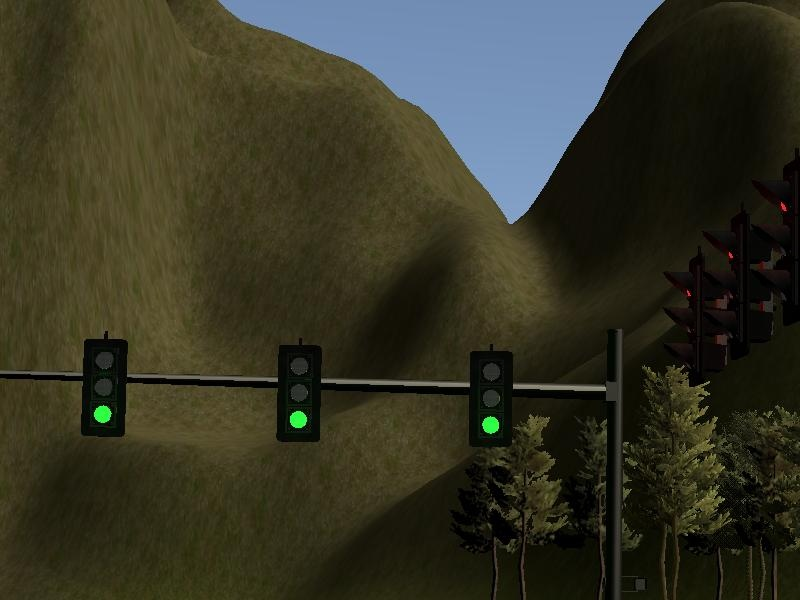GREEN: (81, 341, 126, 436), (277, 346, 322, 441), (467, 350, 512, 445)
